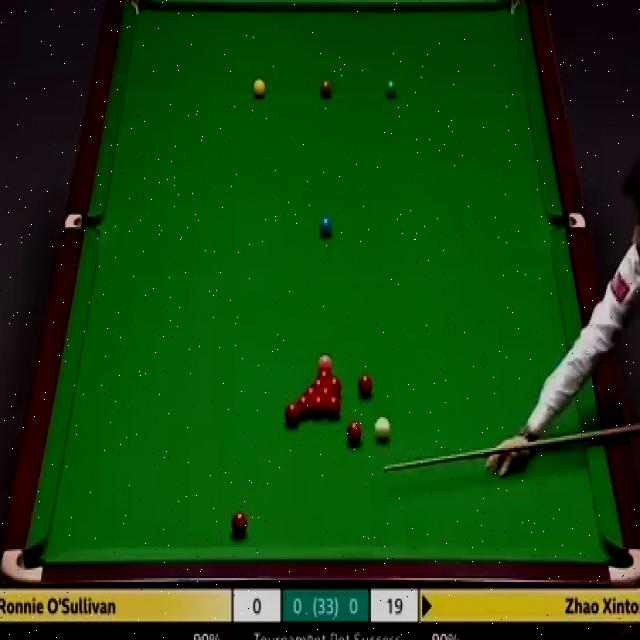blue-ball: (318, 215, 332, 238)
brown-ball: (320, 78, 333, 98)
green-ball: (384, 78, 397, 99)
pink-ball: (317, 354, 333, 368)
red-ball: (284, 403, 301, 430), (326, 394, 342, 421), (230, 513, 247, 537), (296, 394, 312, 418), (357, 372, 372, 397), (346, 420, 361, 444), (311, 394, 326, 417), (328, 376, 341, 394), (317, 368, 334, 379), (304, 386, 318, 398), (318, 386, 333, 396), (312, 378, 326, 388)
white-ball: (374, 417, 392, 443)
yellow-ball: (252, 76, 266, 98)
